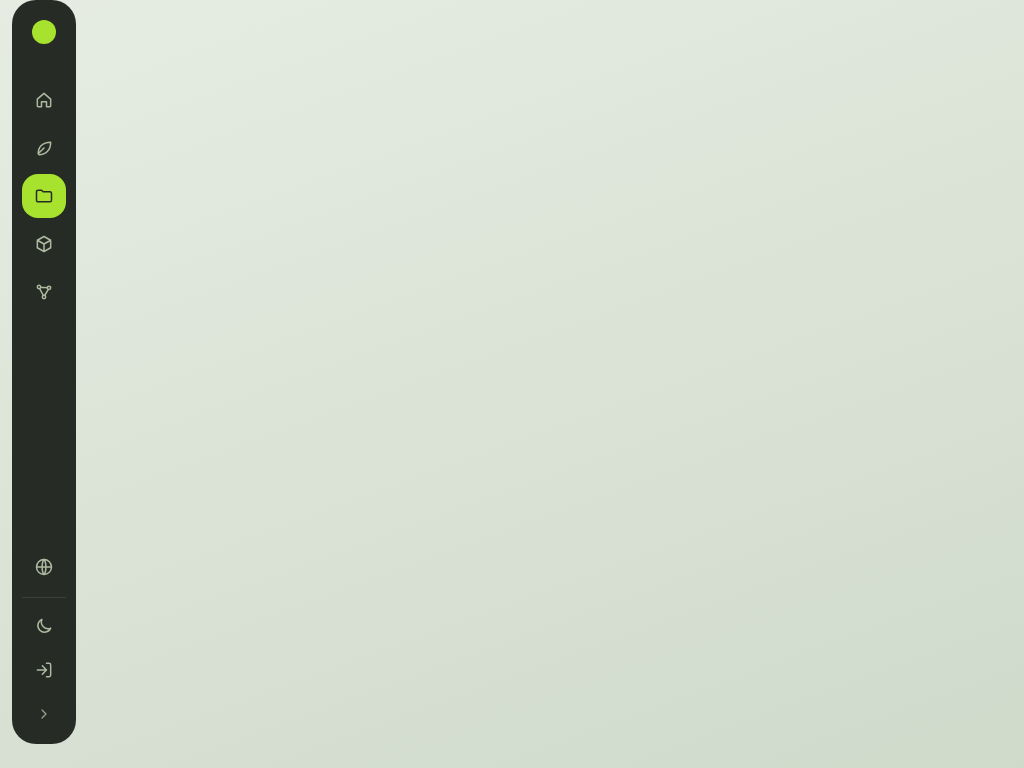
Test: funciona aunque localStorage lance
The width and height of the screenshot is (1024, 768).
Step 1. Click the button named "Expandir menú" → (44, 714), box left=22, top=694, right=66, bottom=734
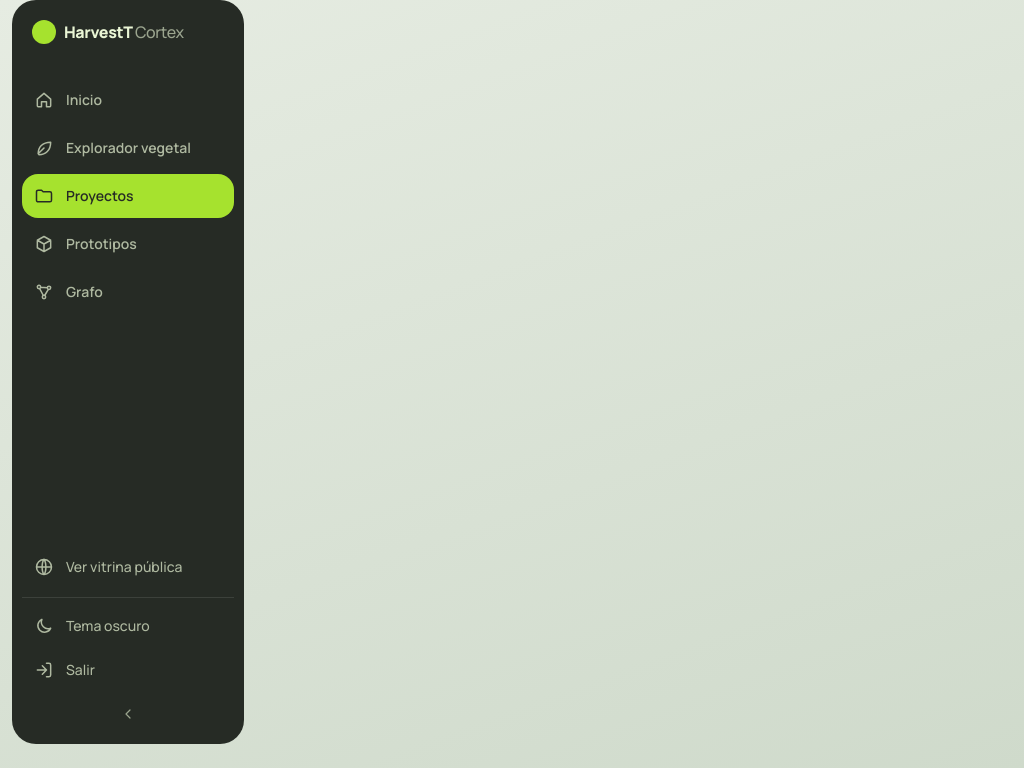
Now the button named "Plegar menú" is shown, box left=22, top=694, right=234, bottom=734
